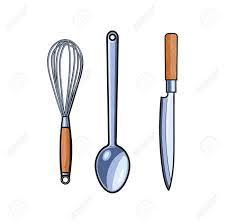Knife: (158, 32, 178, 190)
